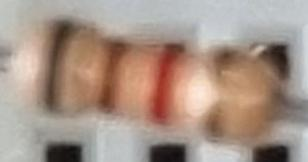Brown: (92, 36, 134, 115)
Green: (37, 18, 83, 115)
Red: (147, 38, 191, 122)
Side-Gold: (202, 52, 240, 144)
